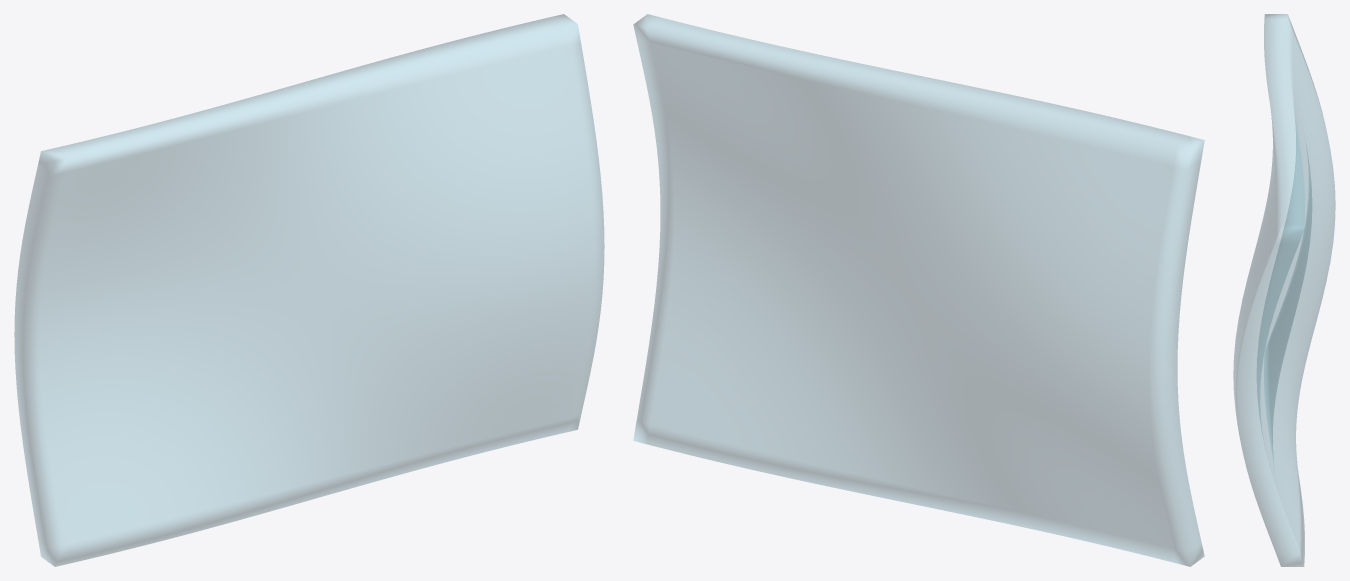
3 renders of one model, left to right at view 1: azimuth 30°, elevation 25°; view 2: azimuth 150°, elevation 25°; view 3: azimuth 270°, elevation 25°, orthographic. The views are drawn at different scales.
Parts seen in each view (by area): view 1: flexible-panel; view 2: flexible-panel; view 3: flexible-panel.
Boxes of the visible parts, bbox=[...] form: flexible-panel: bbox=[14, 14, 604, 566]; flexible-panel: bbox=[633, 14, 1204, 566]; flexible-panel: bbox=[1233, 14, 1335, 566].
Size of the model in its own units: 2.2 by 1.6 by 0.4399.
